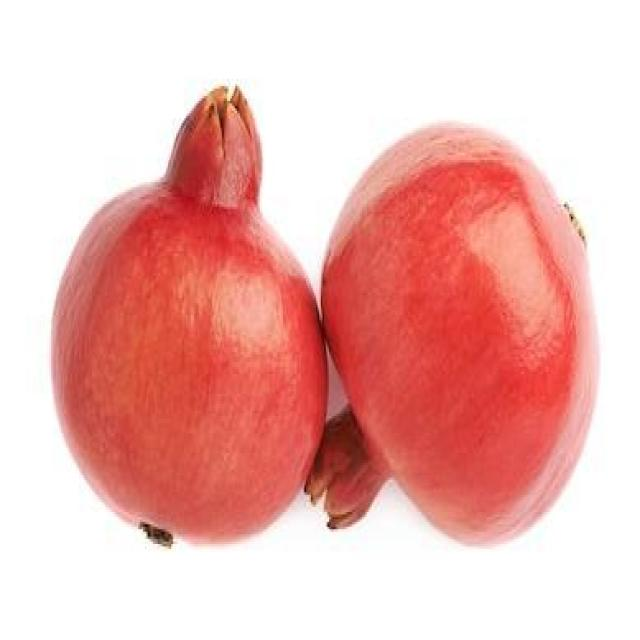Pomegranate: (47, 83, 328, 551), (318, 112, 605, 549)
